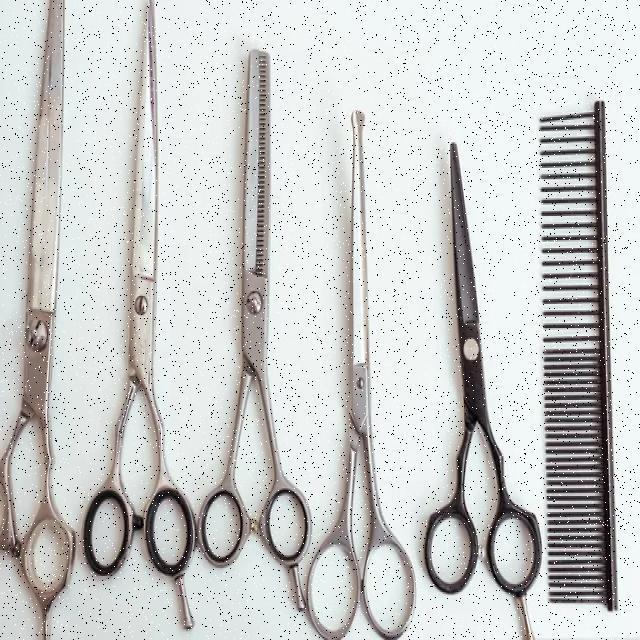scissors: (80, 0, 202, 640), (198, 43, 314, 639), (300, 109, 418, 635), (422, 138, 544, 639), (0, 0, 80, 635)
